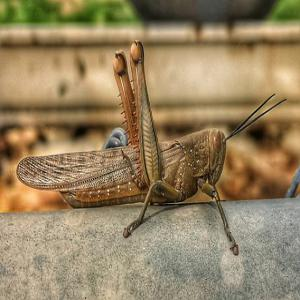locust: (20, 73, 260, 221)
